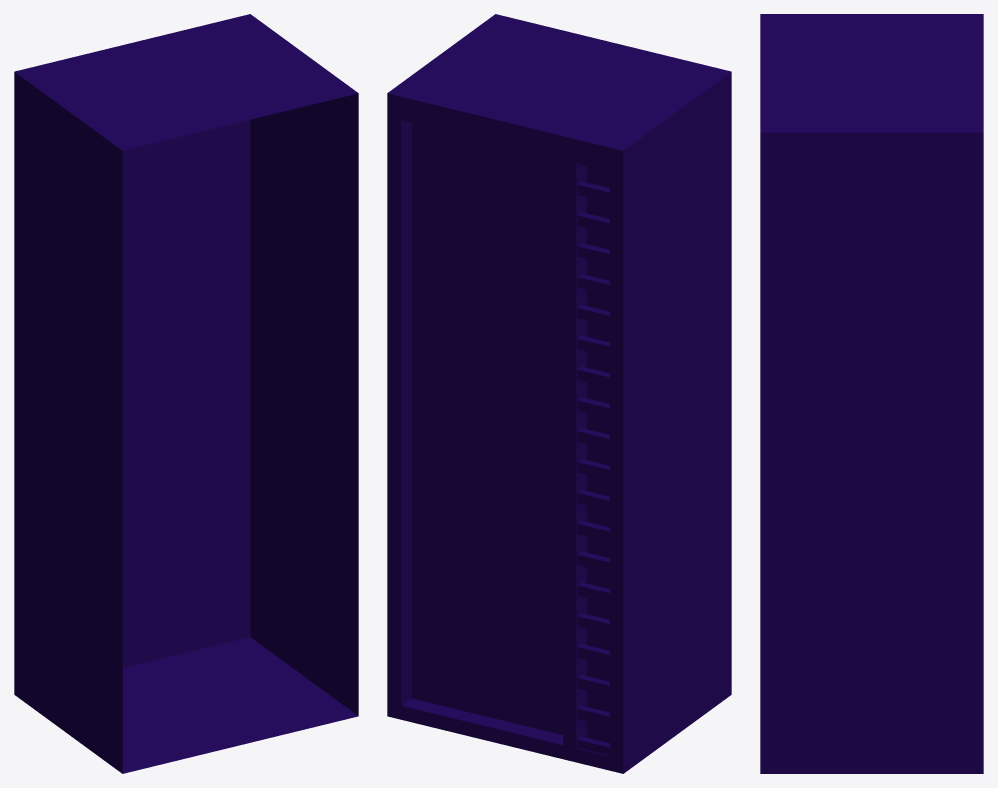
File: server_flame.fbx
3 views of the same model, side by side, from view 1: azimuth 30°, elevation 25°; view 2: azimuth 150°, elevation 25°; view 3: azimuth 270°, elevation 25° (orthographic). The views are drawn at different scales.
Visible parts, largest first — view 1: server; view 2: server; view 3: server.
Boxes of the visible parts, x1,y1,x2,y2 form: server: [14, 14, 358, 773]; server: [387, 14, 731, 773]; server: [760, 14, 983, 773].
Bounding box in the file's own units: 84.02 × 212 × 66.76.
